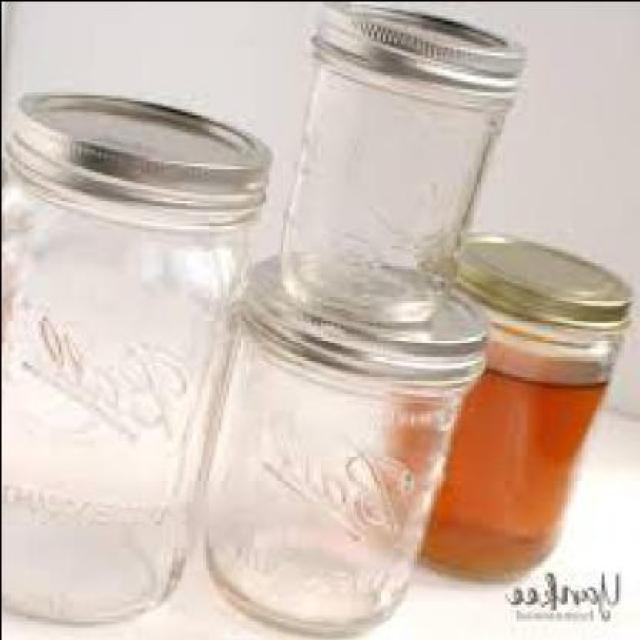BIODEGRADABLE: (427, 332, 611, 572)
GLASS: (3, 134, 265, 623), (207, 310, 484, 628), (282, 43, 516, 325), (419, 276, 623, 578)
METAL: (5, 82, 273, 202), (251, 250, 492, 373), (312, 2, 526, 89), (458, 233, 634, 324)
